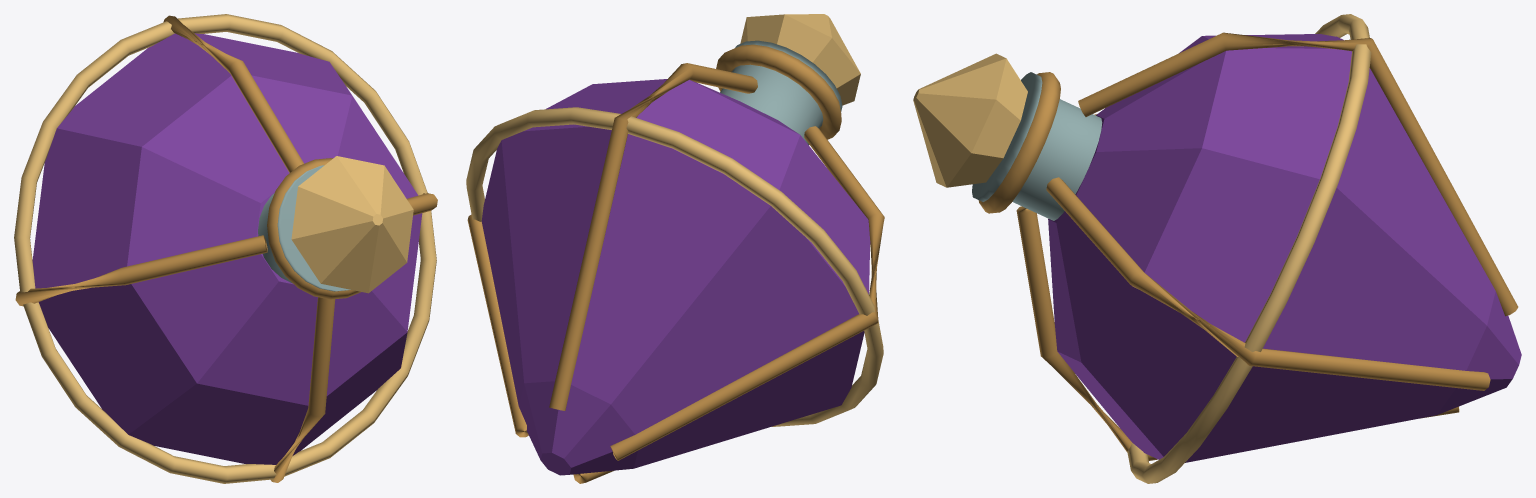
Rendered from full_rejuv.glb.
3 renders of one model, left to right at view 1: azimuth 30°, elevation 25°; view 2: azimuth 150°, elevation 25°; view 3: azimuth 270°, elevation 25°, orthographic. The views are drawn at different scales.
Visible parts, largest first — view 1: SM_full_rejuv; view 2: SM_full_rejuv; view 3: SM_full_rejuv.
Boxes of the visible parts, x1,y1,x2,y2 form: SM_full_rejuv: (14, 14, 437, 483); SM_full_rejuv: (466, 14, 884, 483); SM_full_rejuv: (913, 14, 1521, 483).
Bounding box in the file's own units: 0.3213 × 0.2904 × 0.3726.
